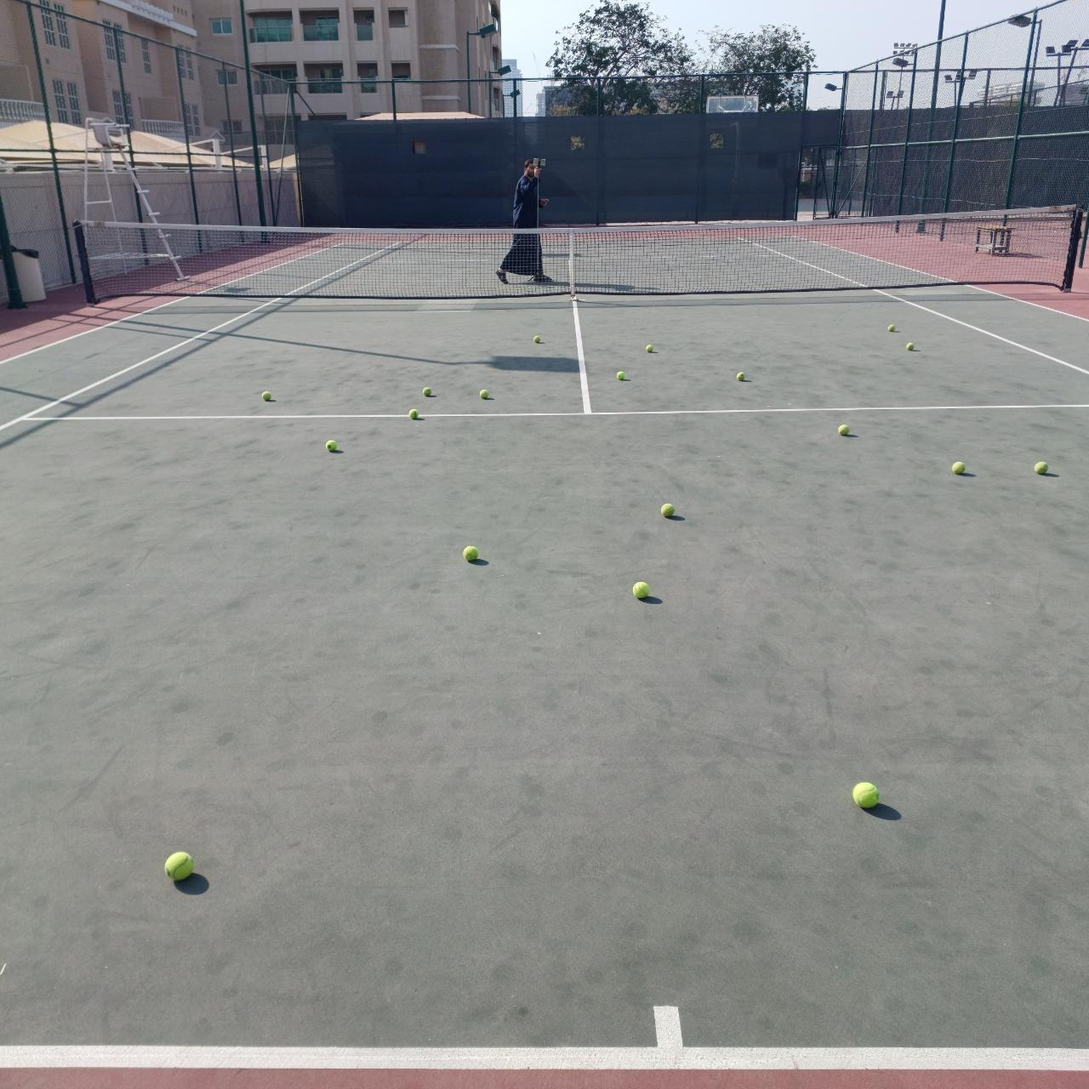tennis-ball: (162, 848, 194, 881), (851, 778, 880, 809), (630, 579, 650, 599), (461, 543, 478, 561), (659, 500, 674, 516), (949, 459, 965, 474), (1033, 459, 1047, 473), (837, 423, 850, 436), (325, 440, 337, 452), (262, 391, 272, 402), (409, 409, 420, 419), (736, 372, 746, 382), (480, 389, 489, 400), (423, 387, 432, 397), (616, 371, 625, 381), (905, 342, 914, 351), (533, 335, 542, 344), (646, 344, 654, 353), (888, 324, 895, 333)
